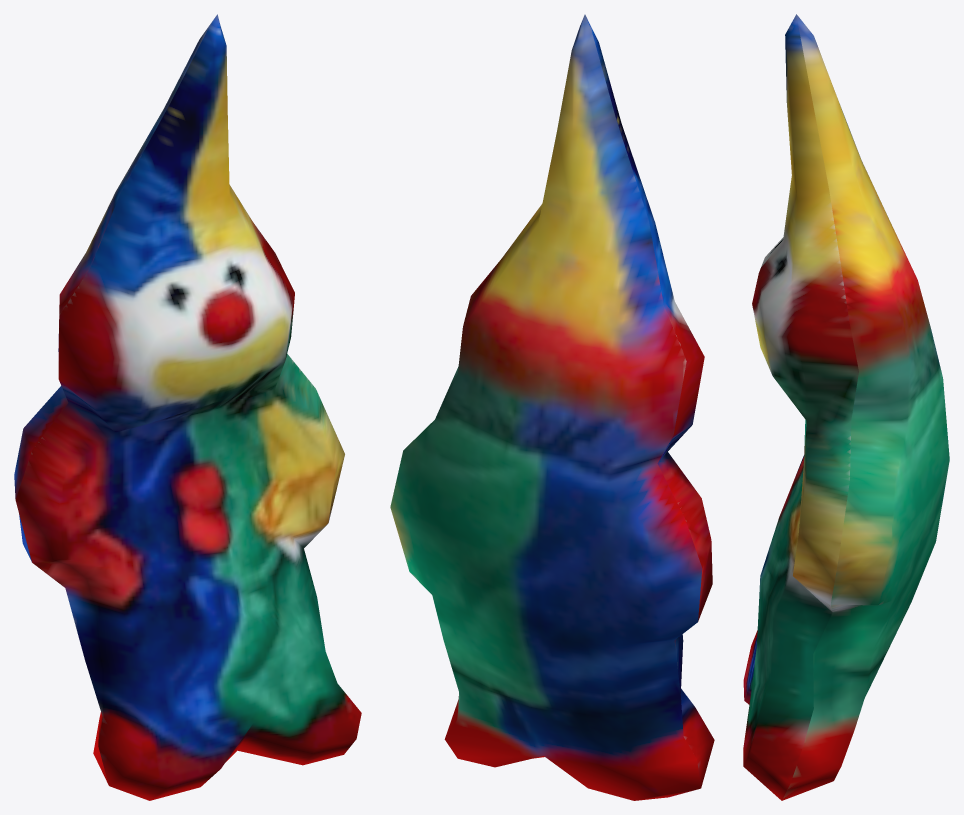
File: clown_plush.FBX
The picture shows the model from 3 angles, left to right: view 1: azimuth 30°, elevation 25°; view 2: azimuth 150°, elevation 25°; view 3: azimuth 270°, elevation 25°; orthographic projection. The views are drawn at different scales.
Parts seen in each view (by area): view 1: clown_plush; view 2: clown_plush; view 3: clown_plush.
Boxes of the visible parts, left/top/right/bottom form: clown_plush: left=14, top=14, right=361, bottom=800; clown_plush: left=390, top=14, right=714, bottom=800; clown_plush: left=743, top=14, right=949, bottom=800.
Size of the model in its own units: 15.42 by 36.46 by 9.32.
